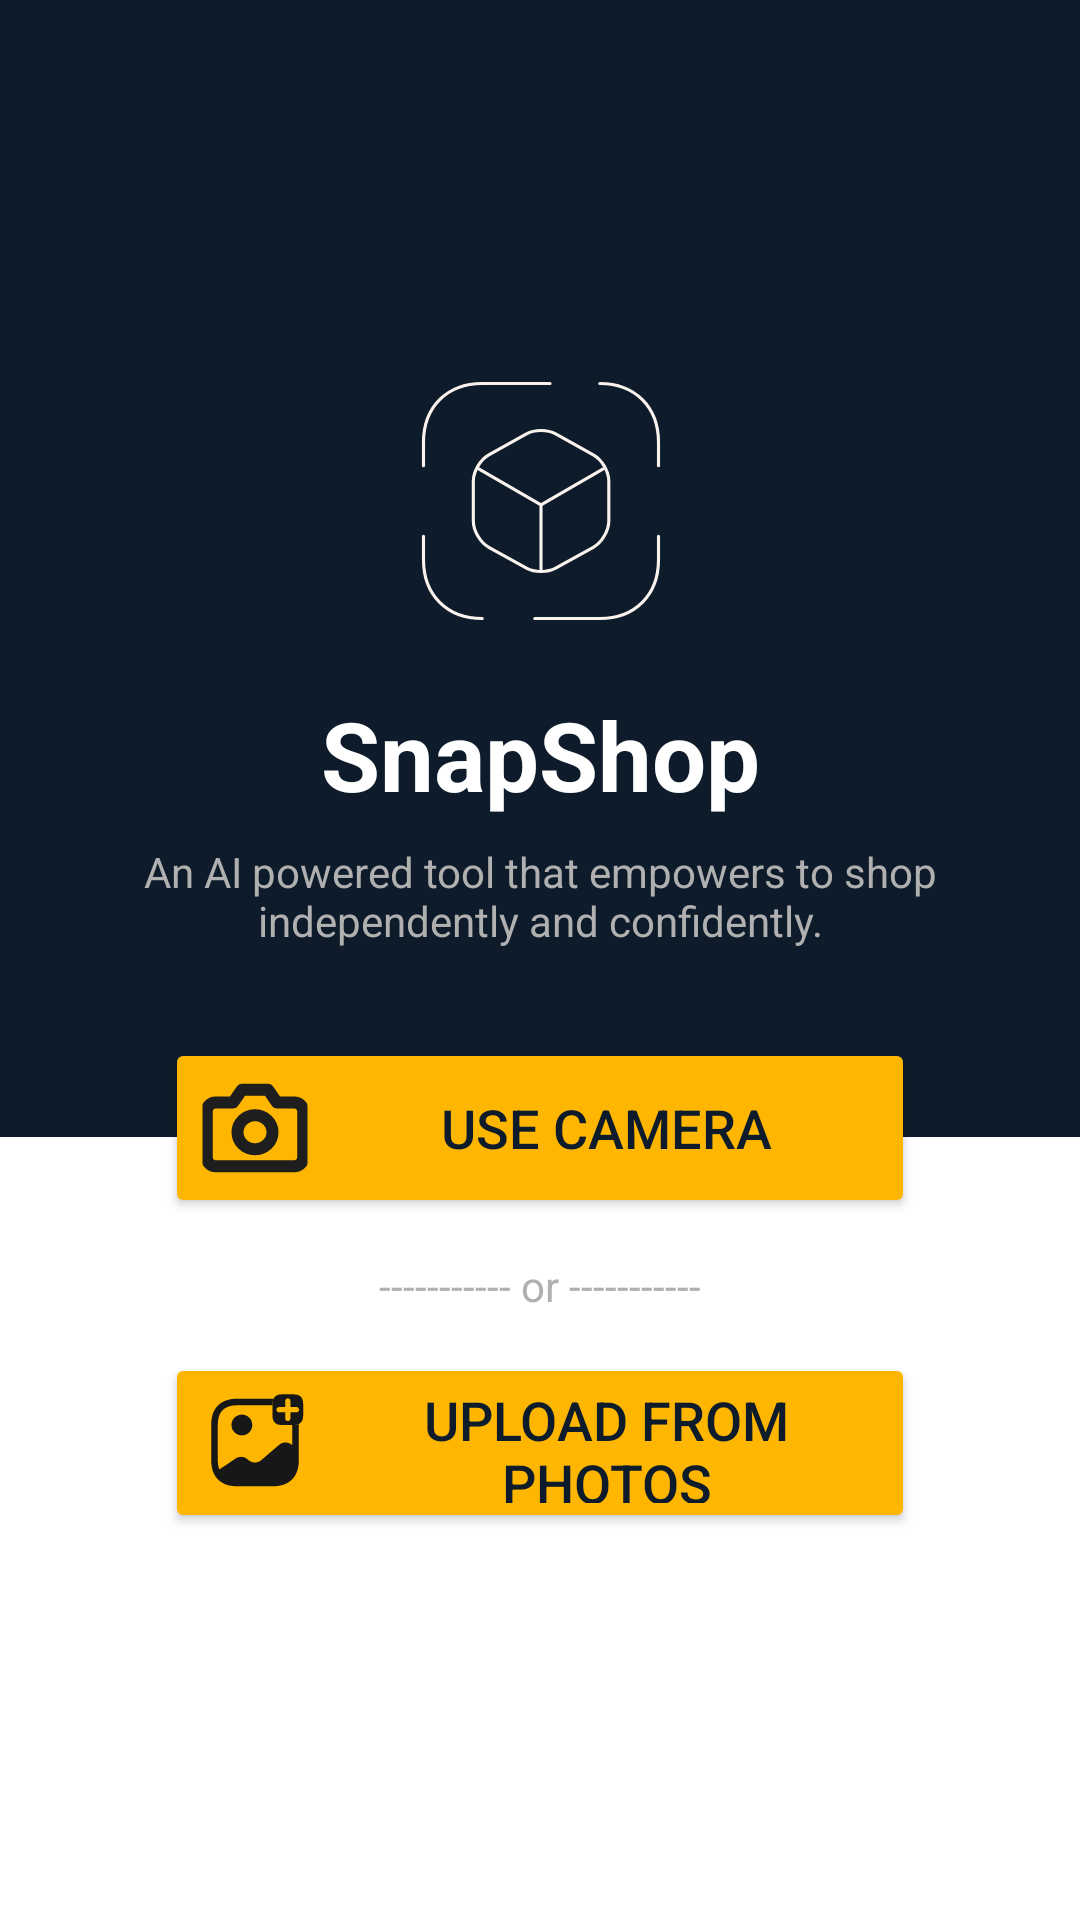

Named icons in this screenshot (1080×1920) and their bounding boxes, (x1, y1, x2, y2):
product: (422, 382, 660, 620)
